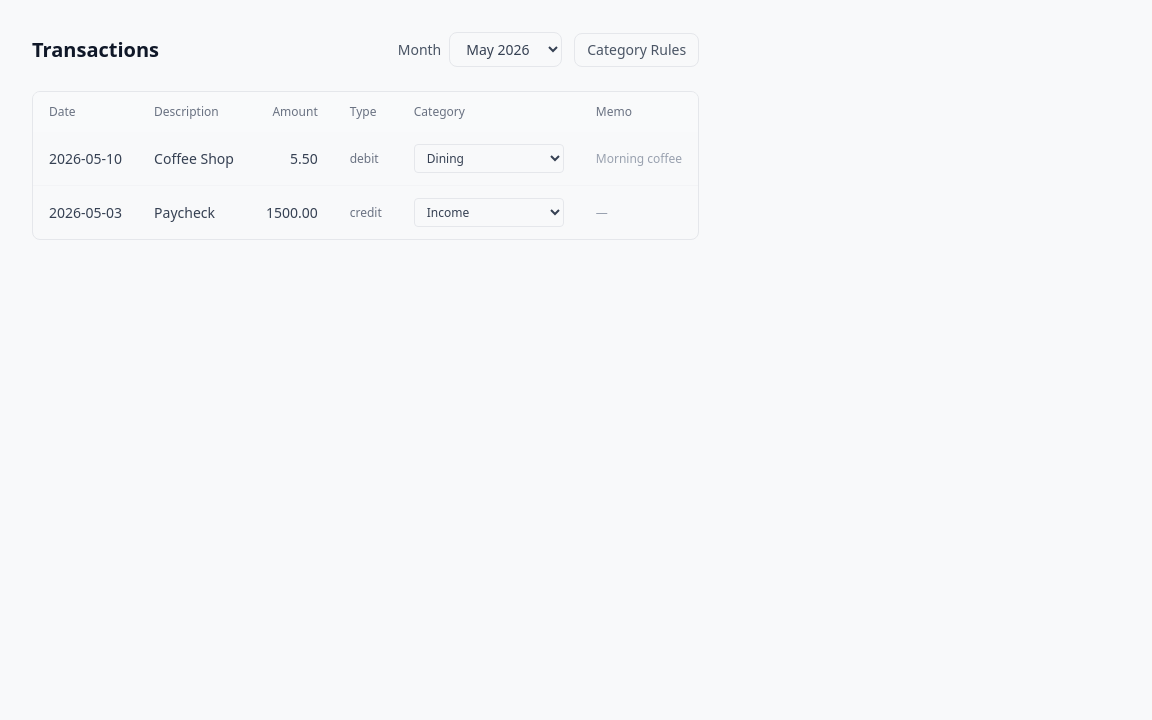
TransactionsPage › renders a single category rules button and keeps its label when opening the modal
Check: the text "Coffee Shop" is shown, box [138,132,250,186]
What coordinates should you click on to do the following:
click the button "Category Rules"
I would click on:
 (637, 50)
Its box is [574,32,699,66].
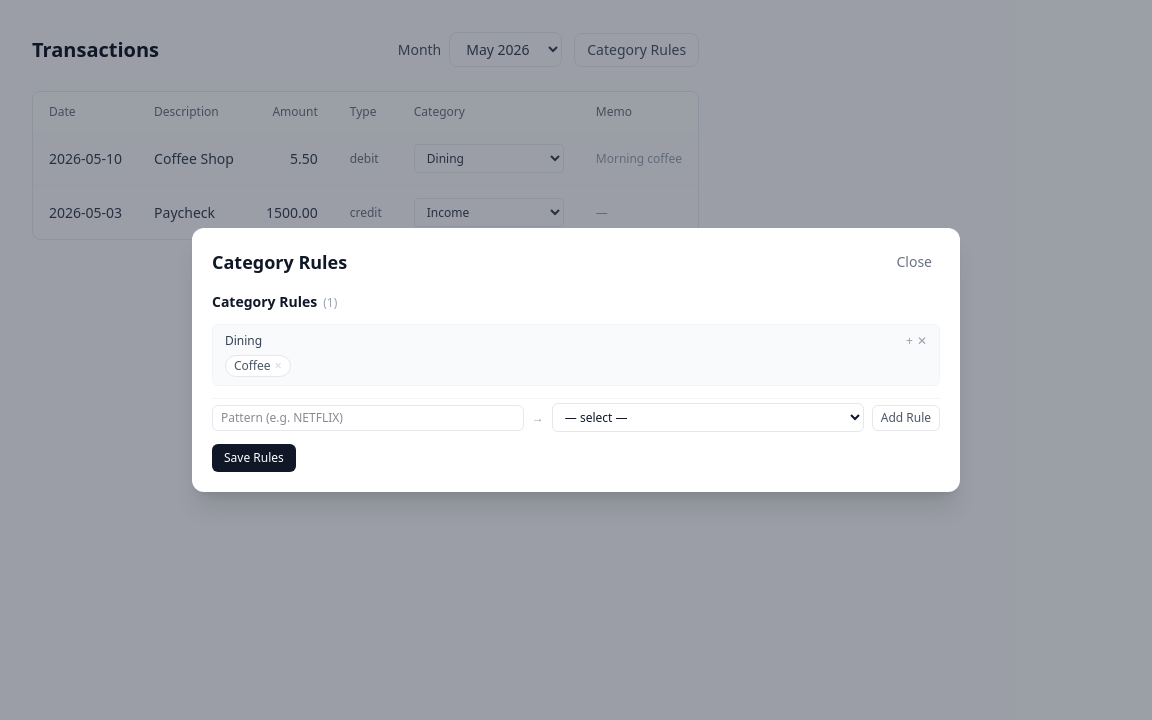
Check: the dialog "Category Rules" is shown, box [192,228,960,492]
